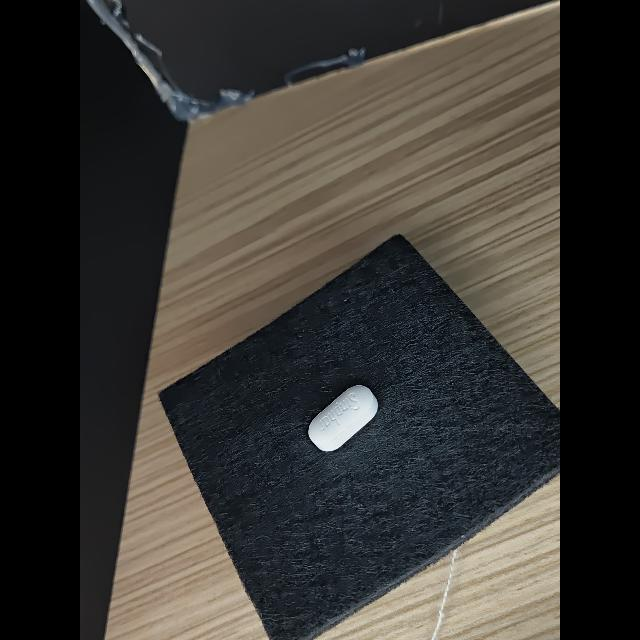Intact Pill: (308, 385, 378, 451)
